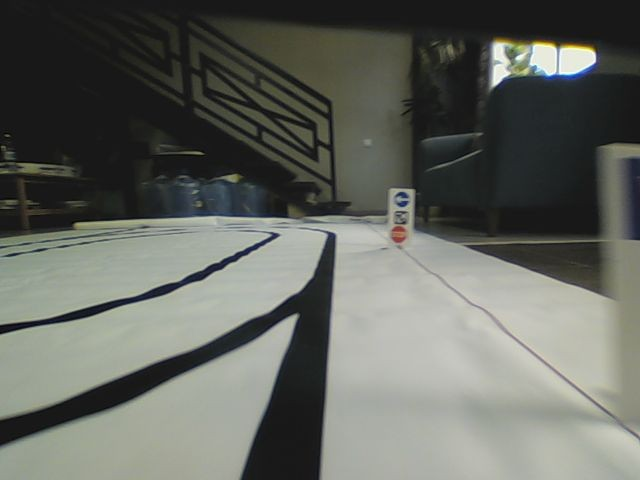Stop: (391, 225, 407, 244)
